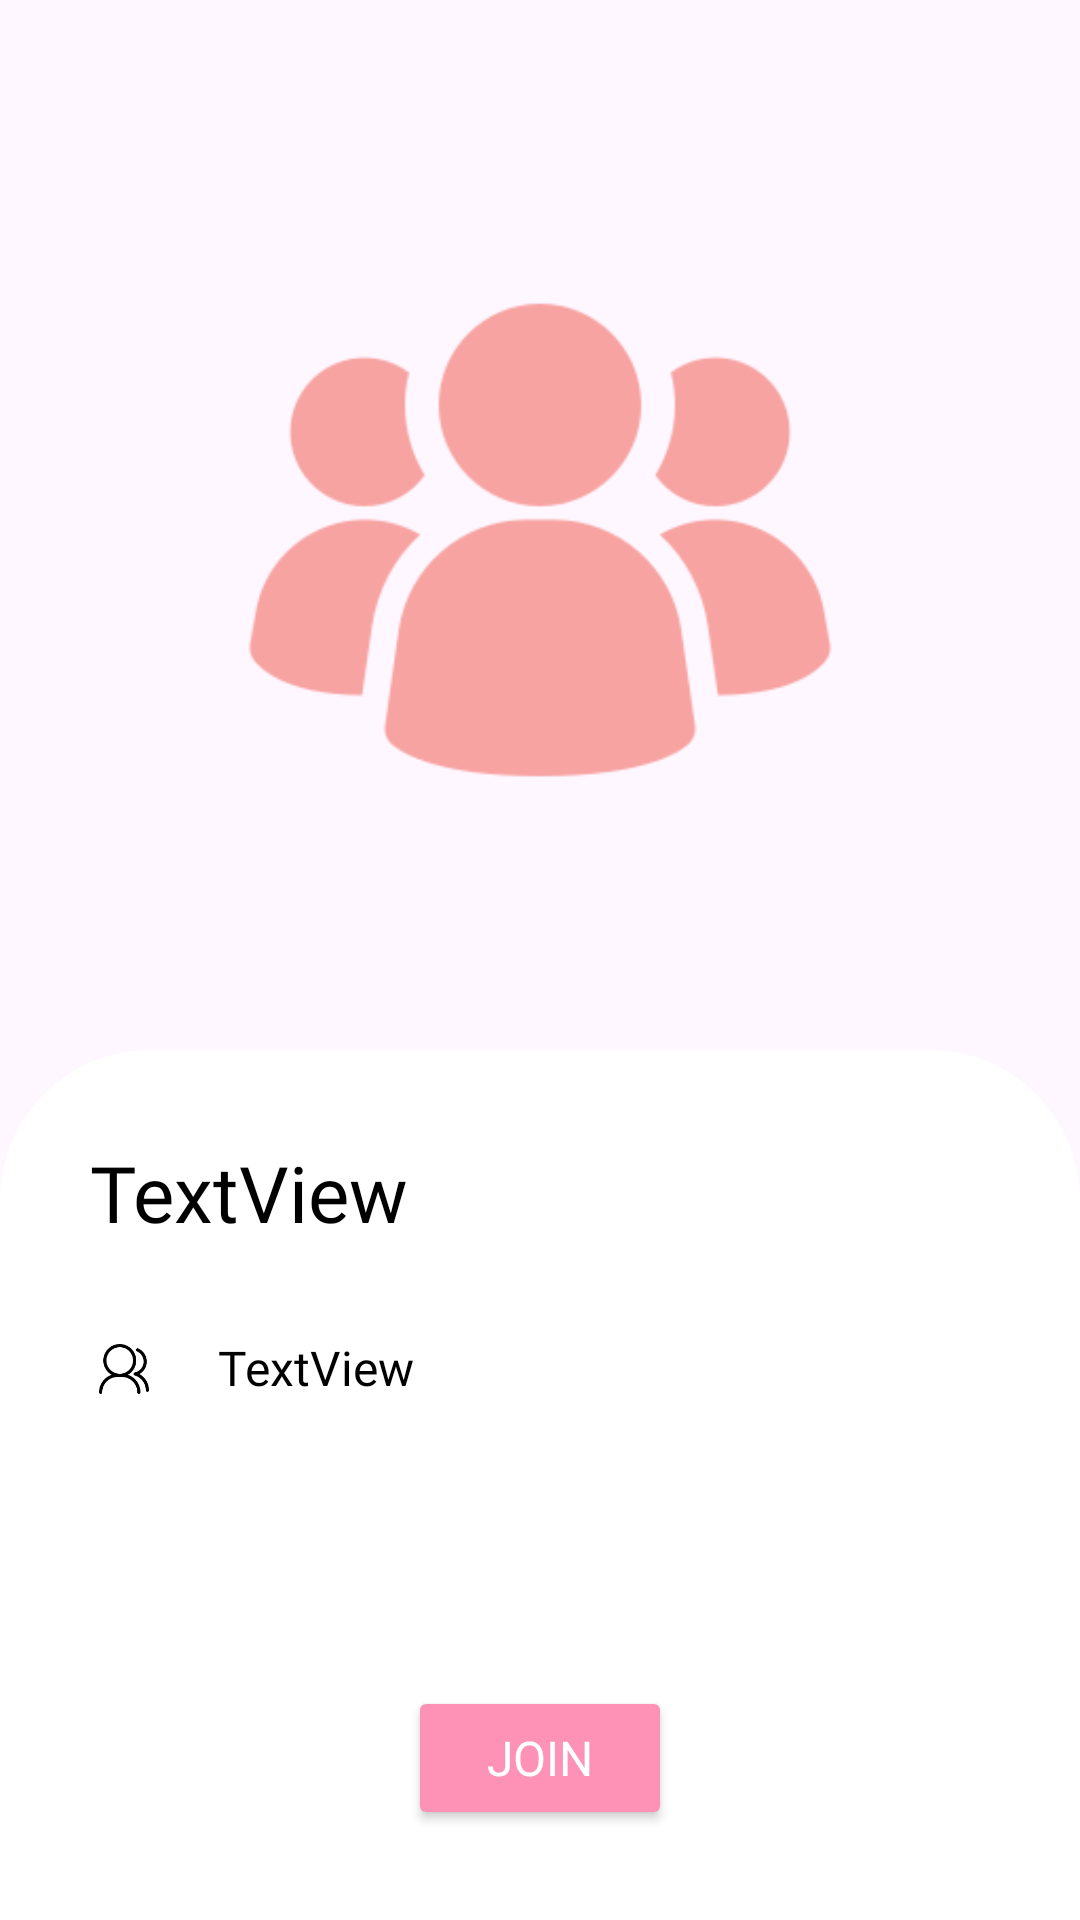

Screen size 1080×1920. Icon name, then its box in pixels as (x1, y1, x2, y2):
member: (99, 1344, 149, 1394)
